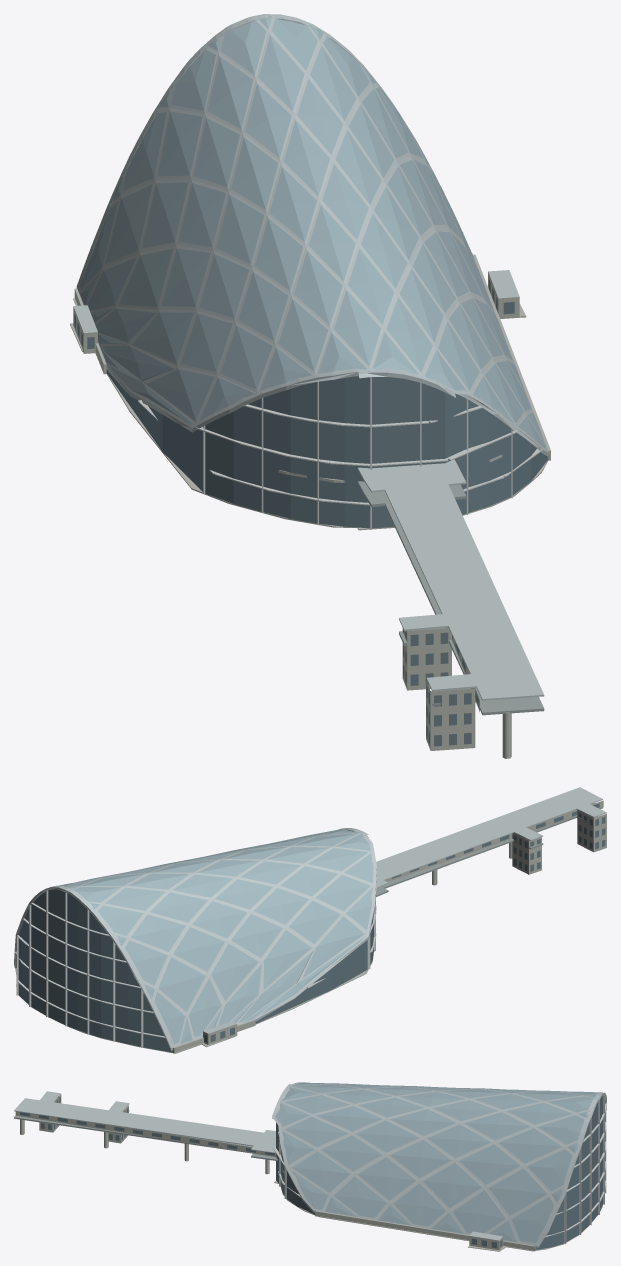
File: anaheim-artic-far.glb
3 renders of one model, top to bottom at view 1: azimuth 30°, elevation 25°; view 2: azimuth 150°, elevation 25°; view 3: azimuth 270°, elevation 25°, orthographic. The views are drawn at different scales.
Parts seen in each view (by area): view 1: anaheim-artic-0-glow, anaheim-artic-0-steel, anaheim-artic-0-glass, anaheim-artic-0-stone, anaheim-artic-0-frame, anaheim-artic-0-deck; view 2: anaheim-artic-0-glow, anaheim-artic-0-steel, anaheim-artic-0-glass, anaheim-artic-0-frame, anaheim-artic-0-stone, anaheim-artic-0-deck; view 3: anaheim-artic-0-glow, anaheim-artic-0-steel, anaheim-artic-0-glass, anaheim-artic-0-stone, anaheim-artic-0-frame, anaheim-artic-0-deck.
Part boxes in pixels (<box>): anaheim-artic-0-glow: <box>77,16,546,448</box>; anaheim-artic-0-steel: <box>73,14,548,700</box>; anaheim-artic-0-glass: <box>74,279,548,746</box>; anaheim-artic-0-stone: <box>70,254,550,758</box>; anaheim-artic-0-frame: <box>138,232,542,529</box>; anaheim-artic-0-deck: <box>357,481,544,715</box>; anaheim-artic-0-glow: <box>59,829,373,1044</box>; anaheim-artic-0-steel: <box>14,787,606,1050</box>; anaheim-artic-0-glass: <box>18,803,605,1052</box>; anaheim-artic-0-frame: <box>15,885,376,1047</box>; anaheim-artic-0-stone: <box>16,800,606,1053</box>; anaheim-artic-0-deck: <box>376,803,602,896</box>; anaheim-artic-0-glow: <box>275,1082,598,1245</box>; anaheim-artic-0-steel: <box>14,1082,606,1248</box>; anaheim-artic-0-glass: <box>20,1096,602,1249</box>; anaheim-artic-0-stone: <box>15,1094,602,1251</box>; anaheim-artic-0-frame: <box>273,1095,606,1243</box>; anaheim-artic-0-deck: <box>14,1110,277,1160</box>.
Size of the model in its own units: 85.79 by 36.58 by 165.
